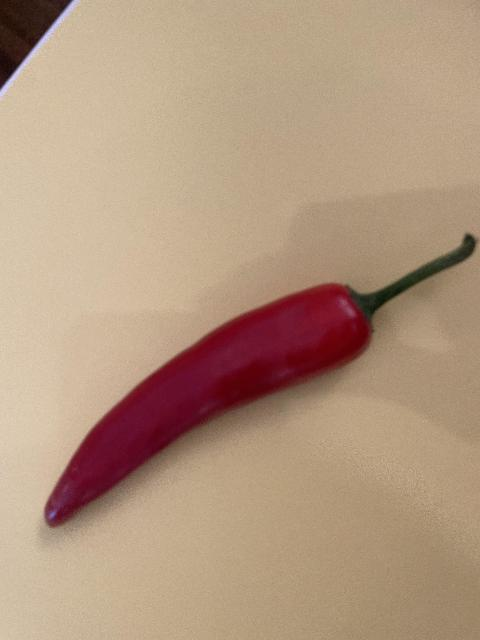chilli: (40, 226, 480, 532)
